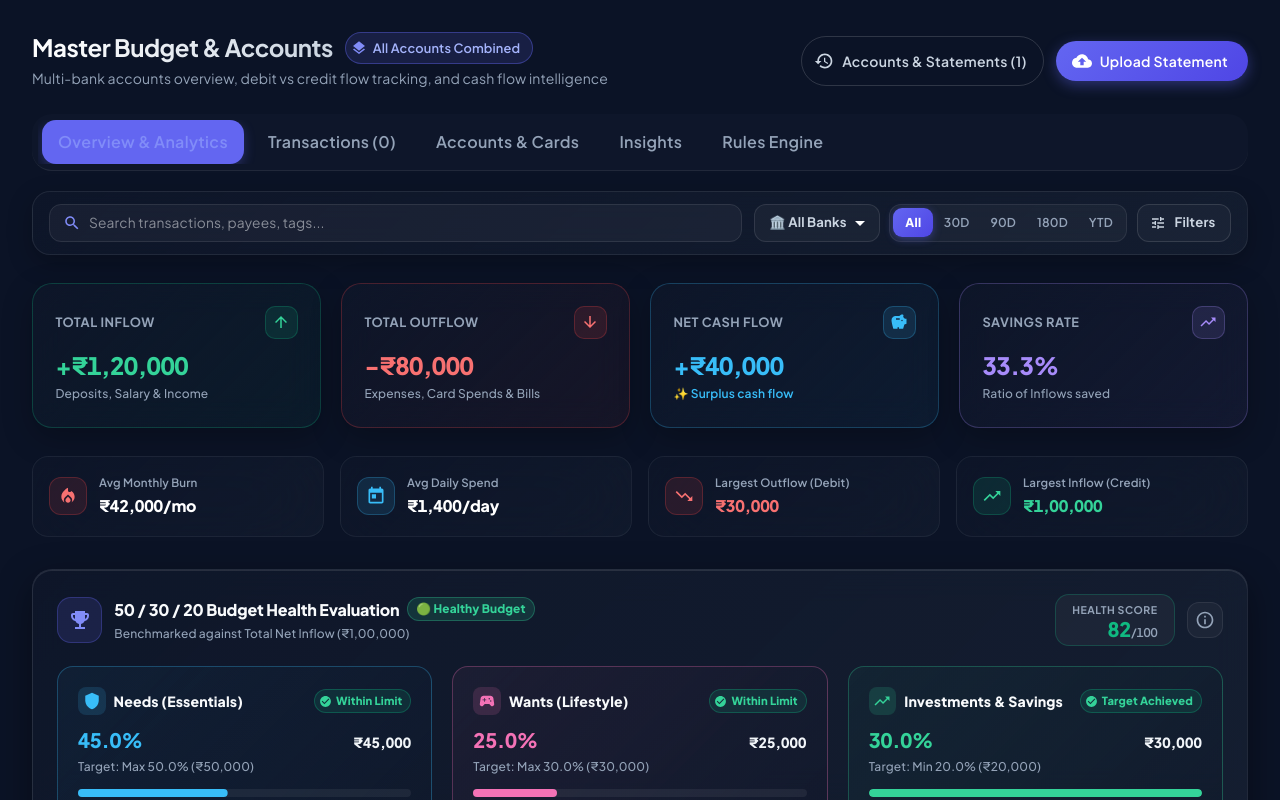
it: BudgetDashboard › shows delete failure as action error
Expected: the text "All Accounts Combined" is shown, top-left (361, 38), bottom-right (532, 58)
Click the button "All Accounts Combined" at (439, 48), box top-left (345, 32), bottom-right (533, 64)
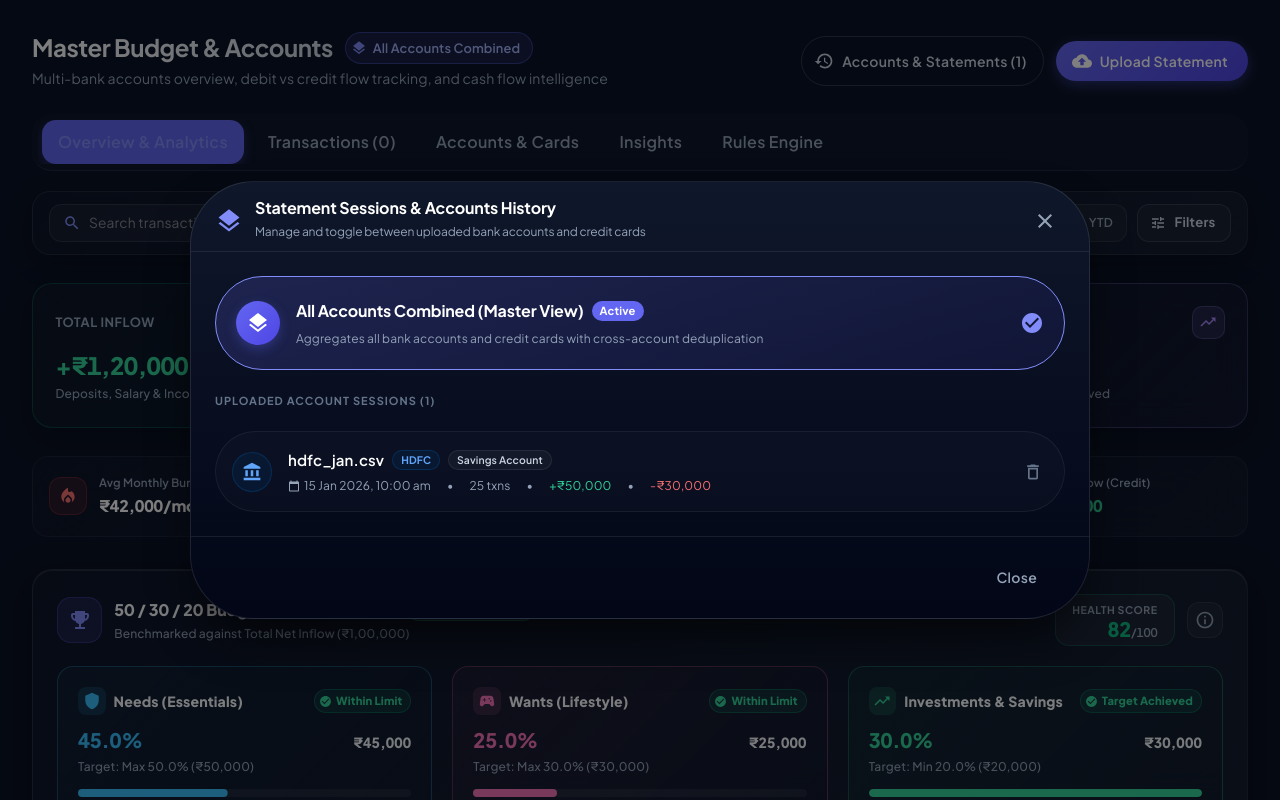
Click the button named "Delete this statement session" at (1033, 472), box top-left (1018, 457), bottom-right (1048, 487)
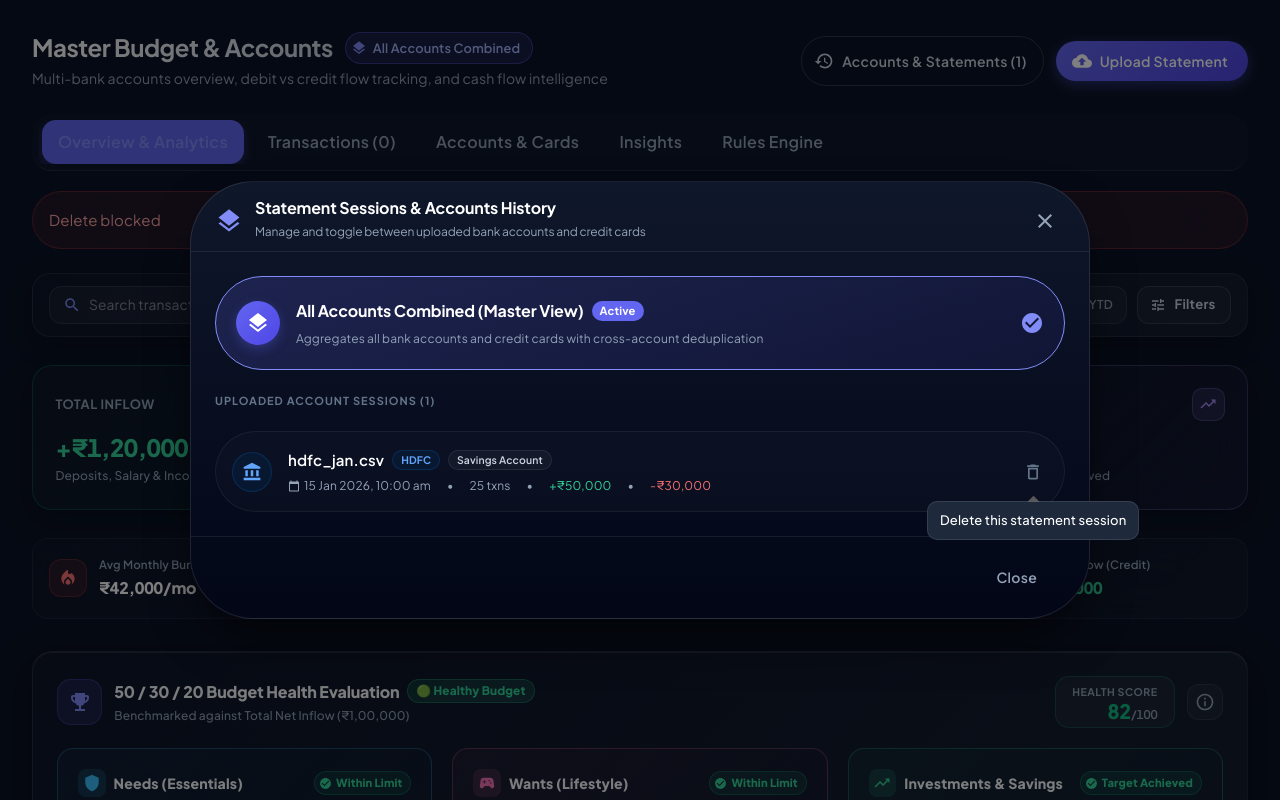
Expected: the text "Delete blocked" is shown, top-left (49, 210), bottom-right (161, 229)
